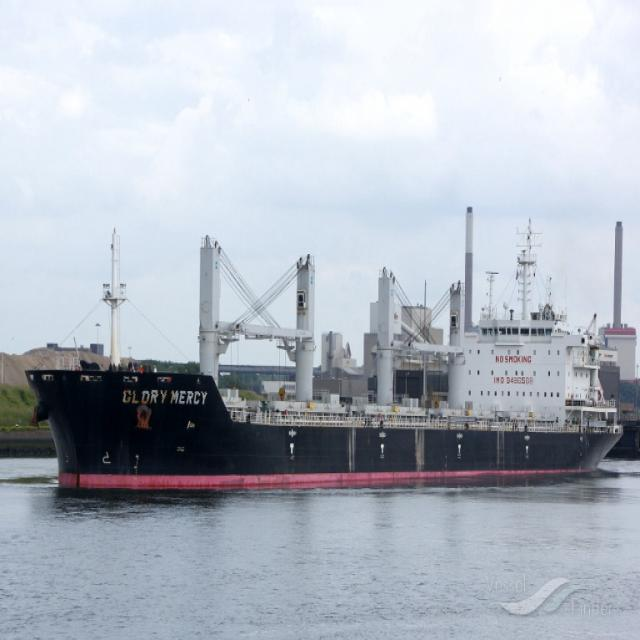OCR: (116, 377, 208, 415)
